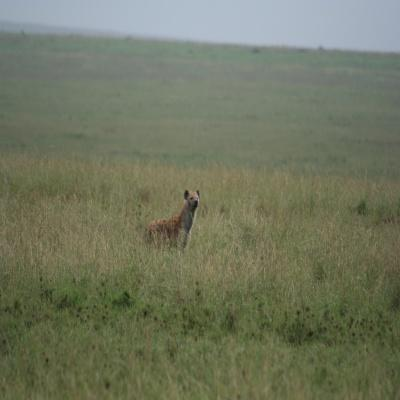hyenas: (144, 170, 223, 279)
